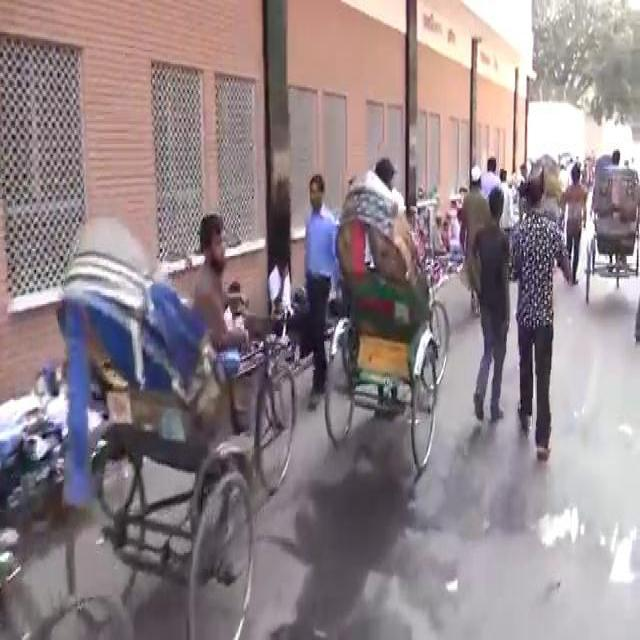rickshaw: (57, 205, 296, 638), (316, 167, 448, 473), (582, 138, 636, 330), (526, 151, 562, 226)
